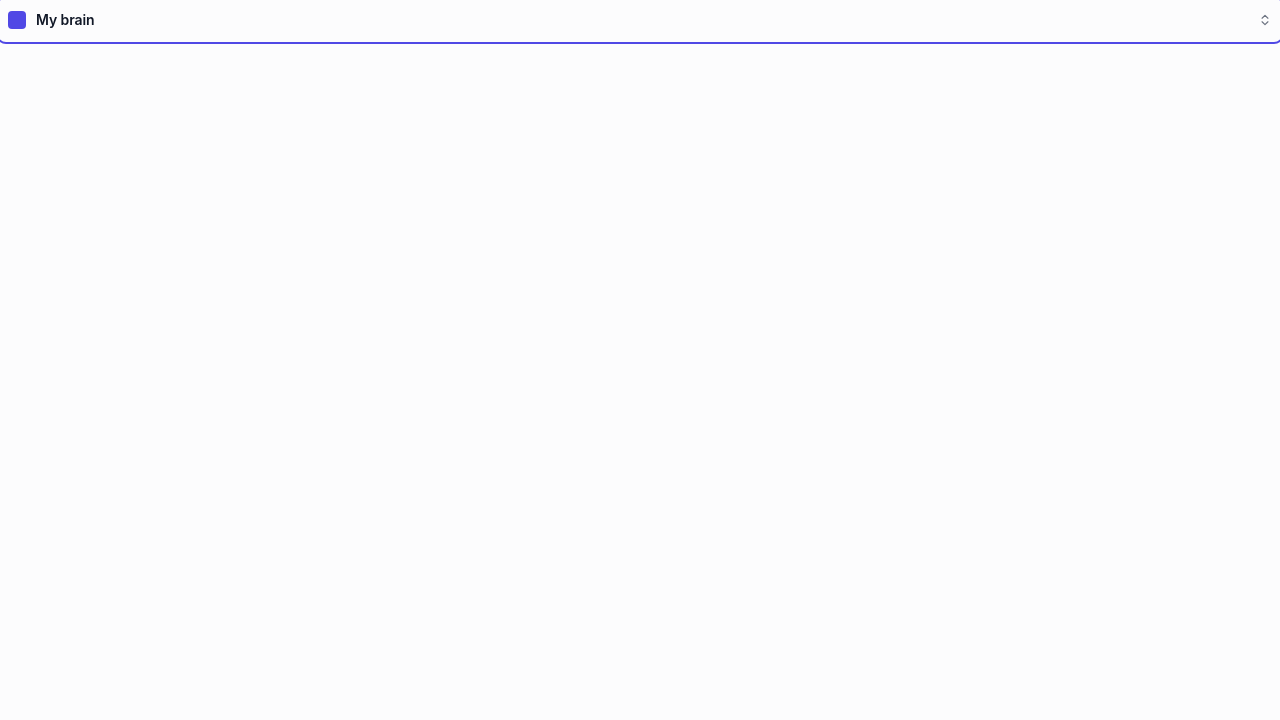
Test: BrainSwitcher › opens the new-brain dialog from the menu
Expected: the text "My brain" is shown, [36,11,95,28]
Press Enter in the button "My brain", box [0,0,1279,40]
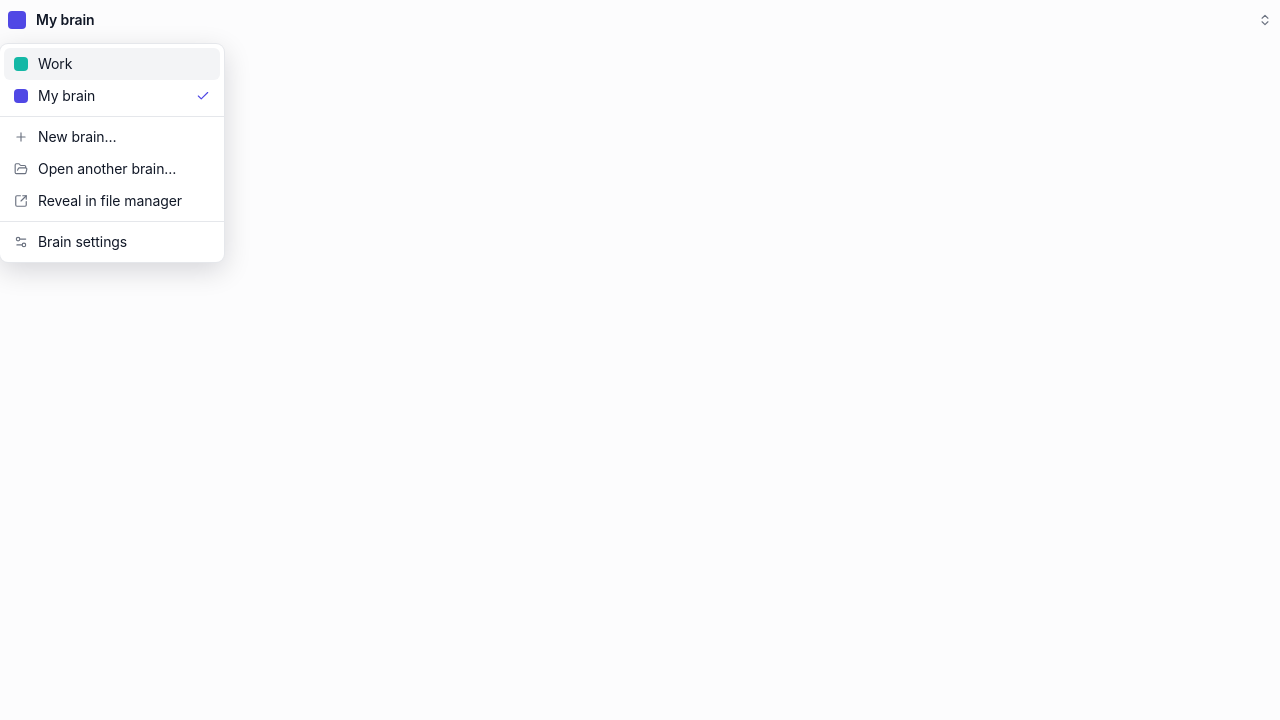
Click the menu item "New brain…" at x=65, y=136, box [14,128,116,145]
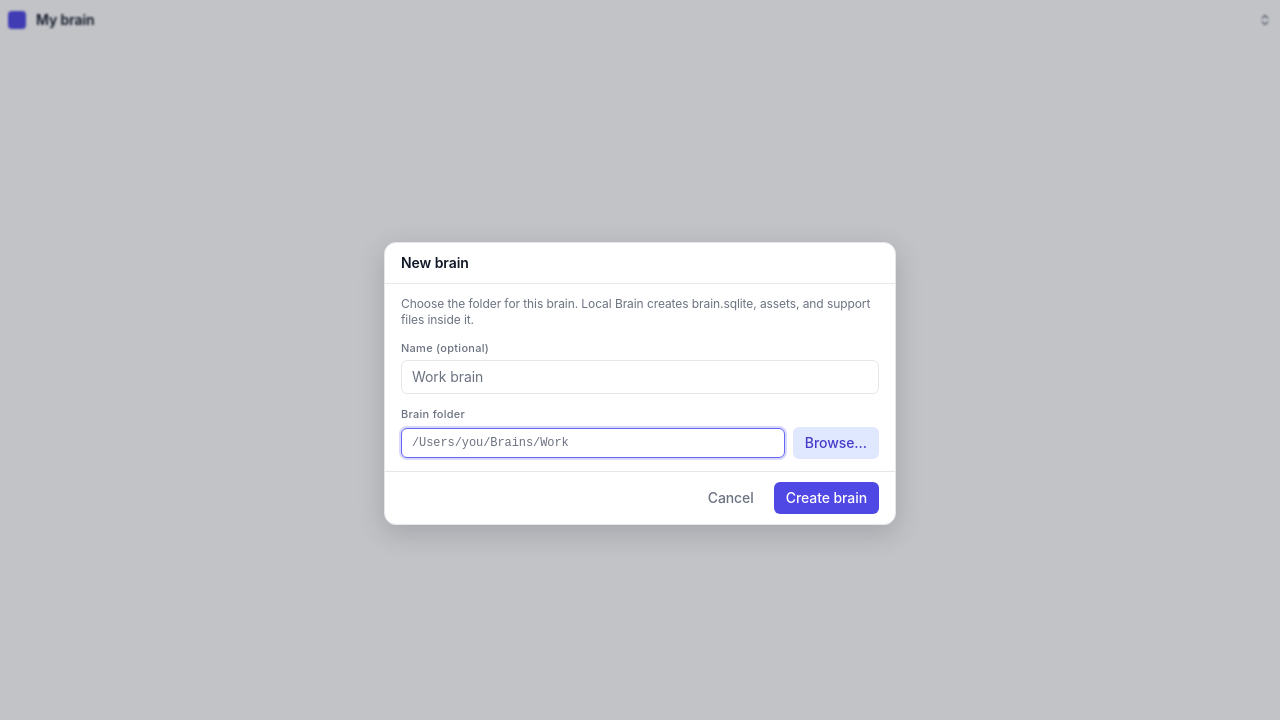
Result: the dialog "New brain" is shown at [384,242,896,525]
Result: the button "Create brain" is shown at [774,482,879,514]
